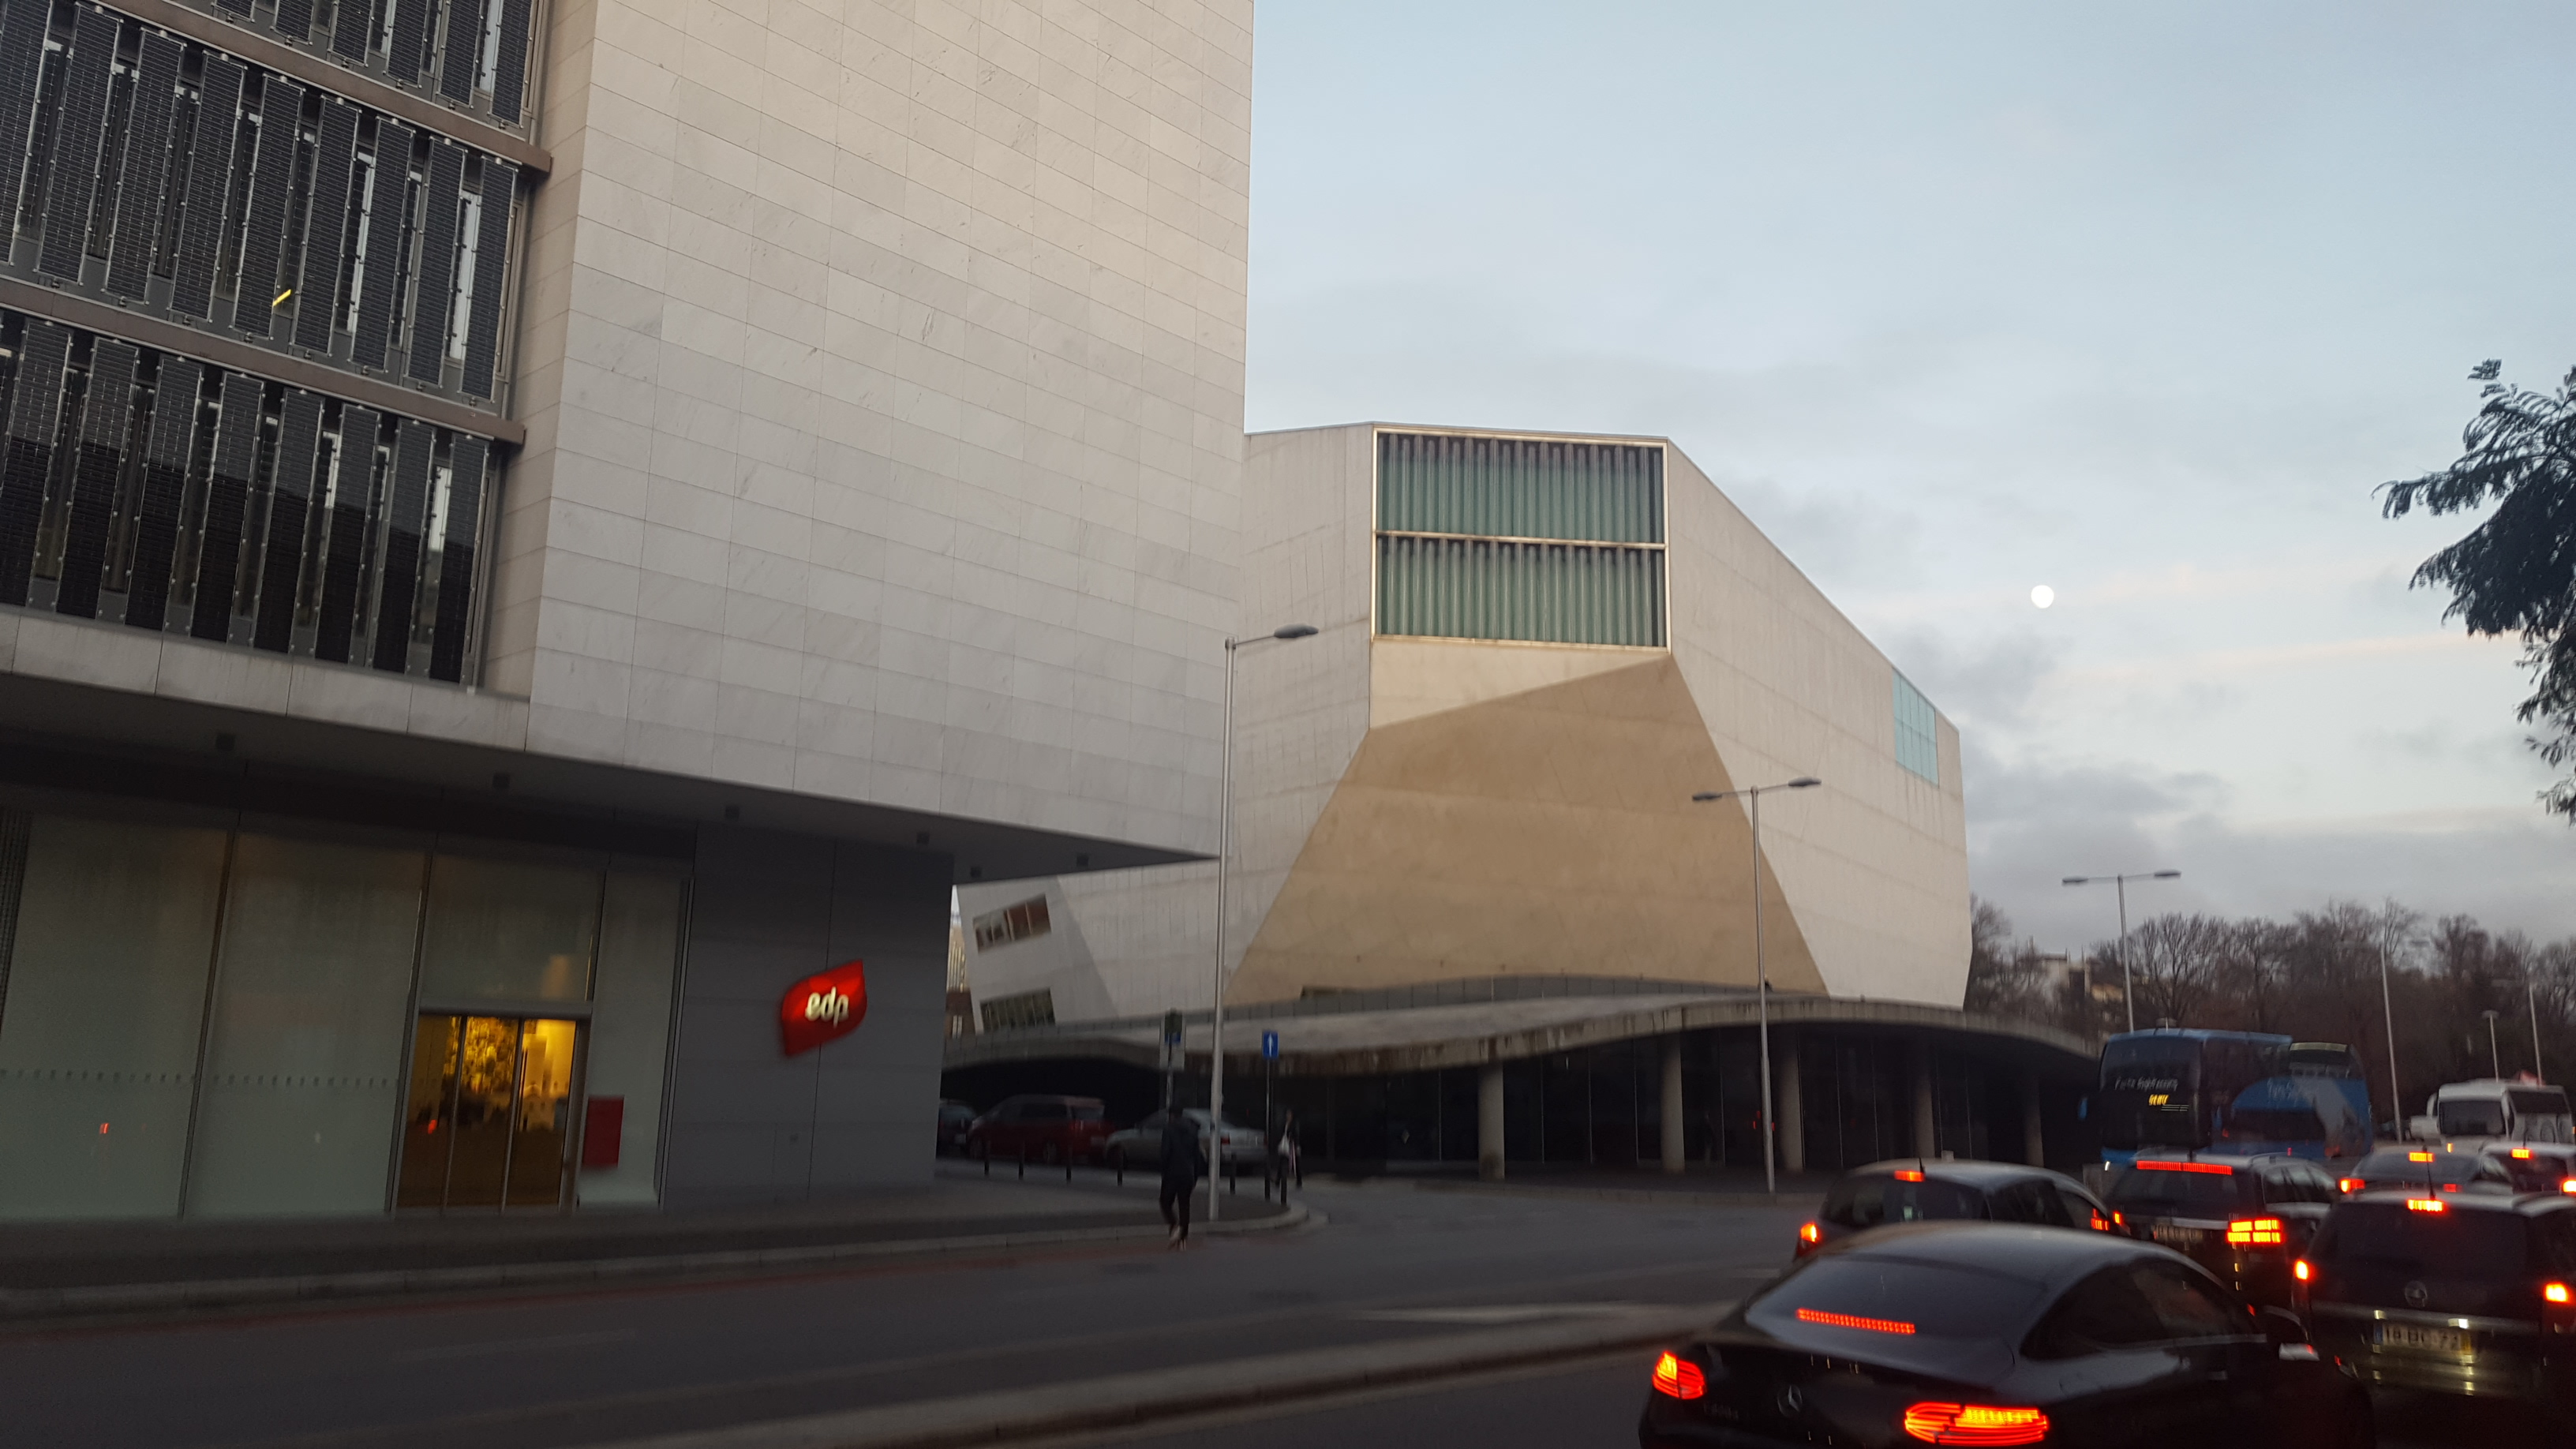musica: (1187, 407, 2049, 982)
